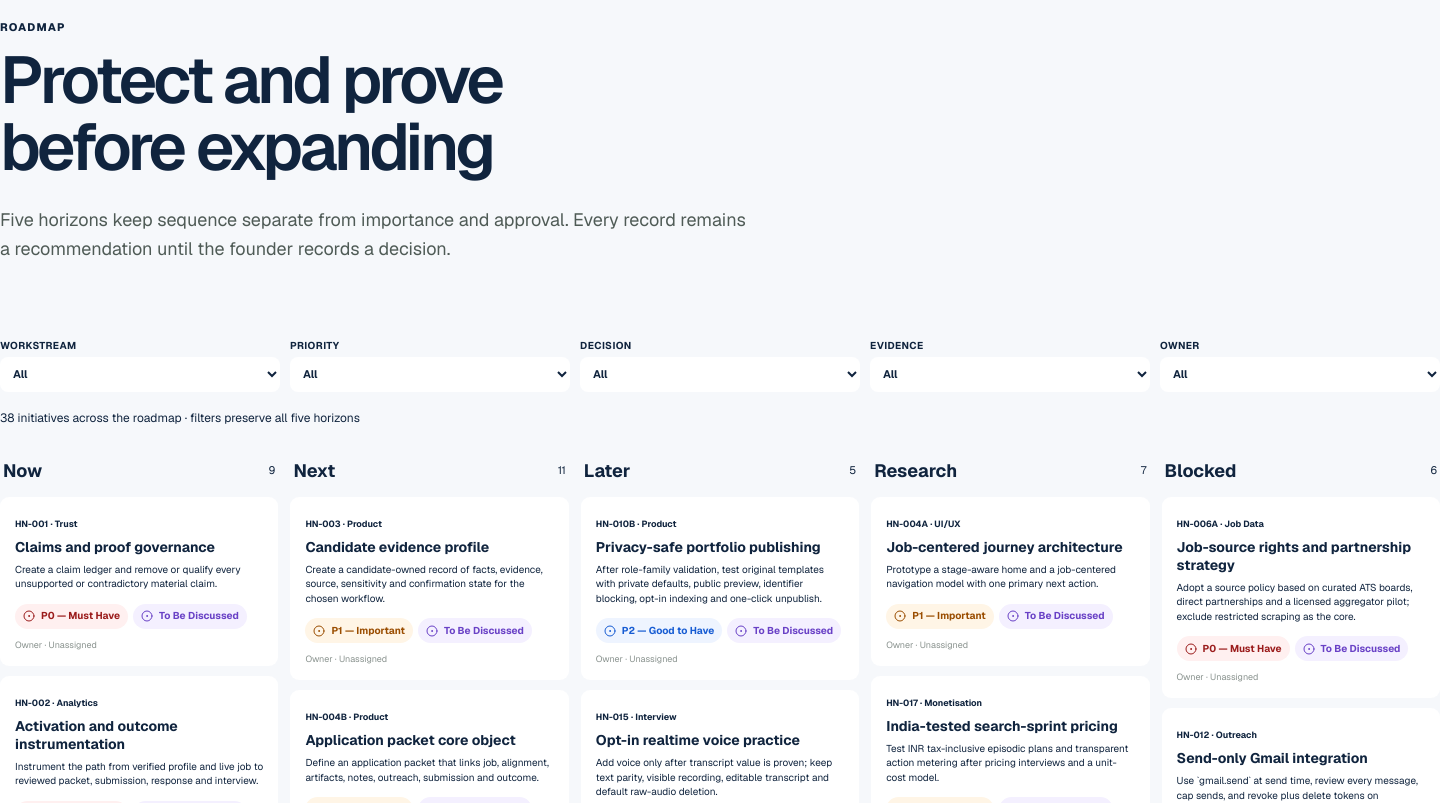
roadmap and founder decision views › filters the roadmap and preserves five horizons
Select "P3 — Later" in the dropdown labelled "Priority" at (430, 374), box [290,357,570,392]
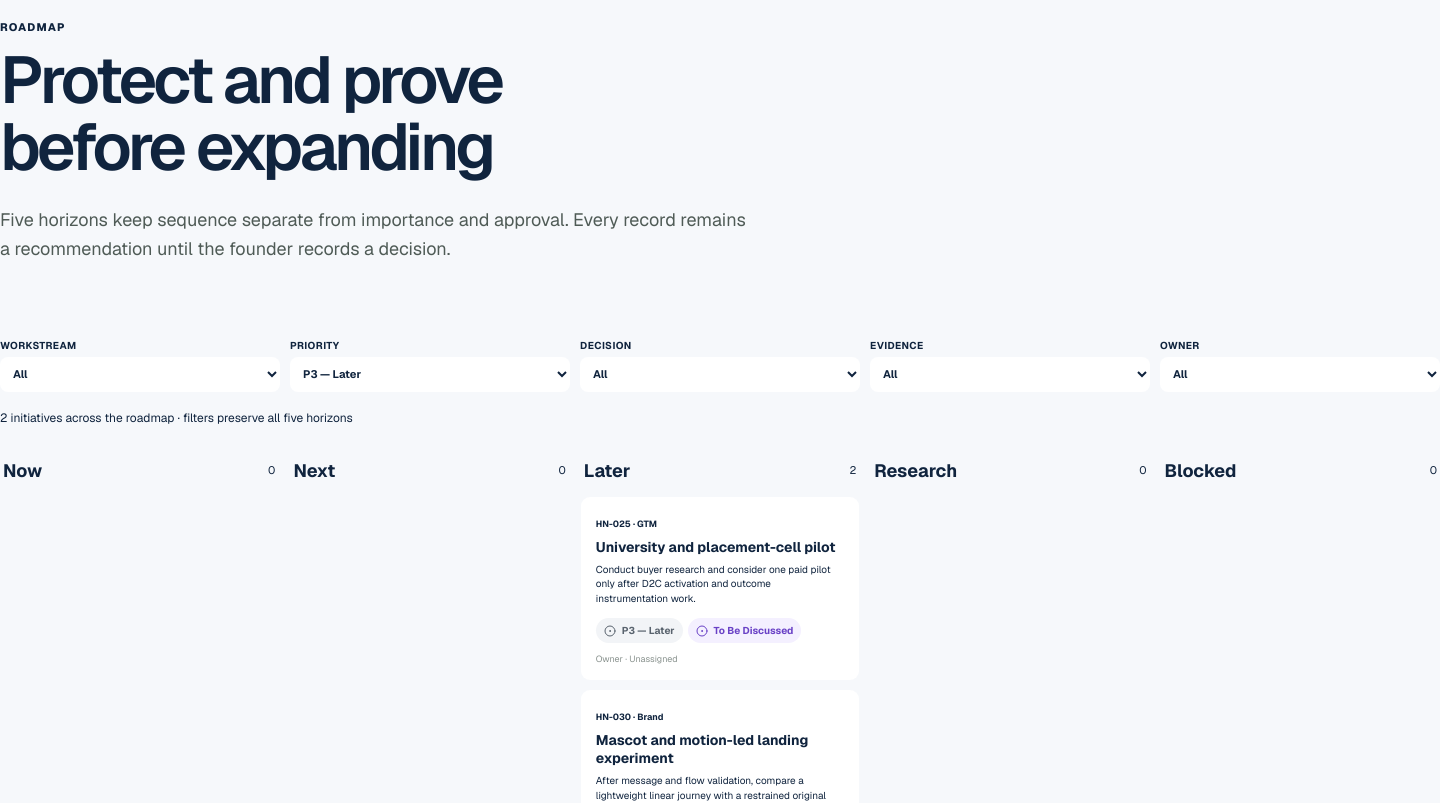
Now the text "2 initiatives across the roadmap" is shown, box [0,410,353,426]
